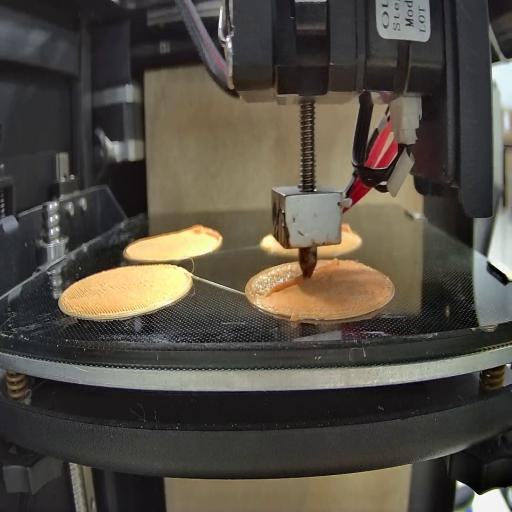over_extrusion: (187, 220, 224, 258), (264, 274, 303, 301), (314, 258, 339, 274), (340, 220, 352, 237)
